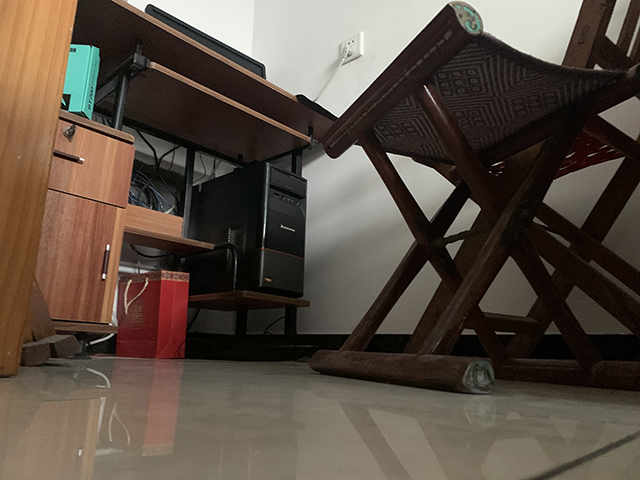stool: (304, 1, 640, 393), (176, 308, 287, 362)
table: (35, 1, 337, 363)
